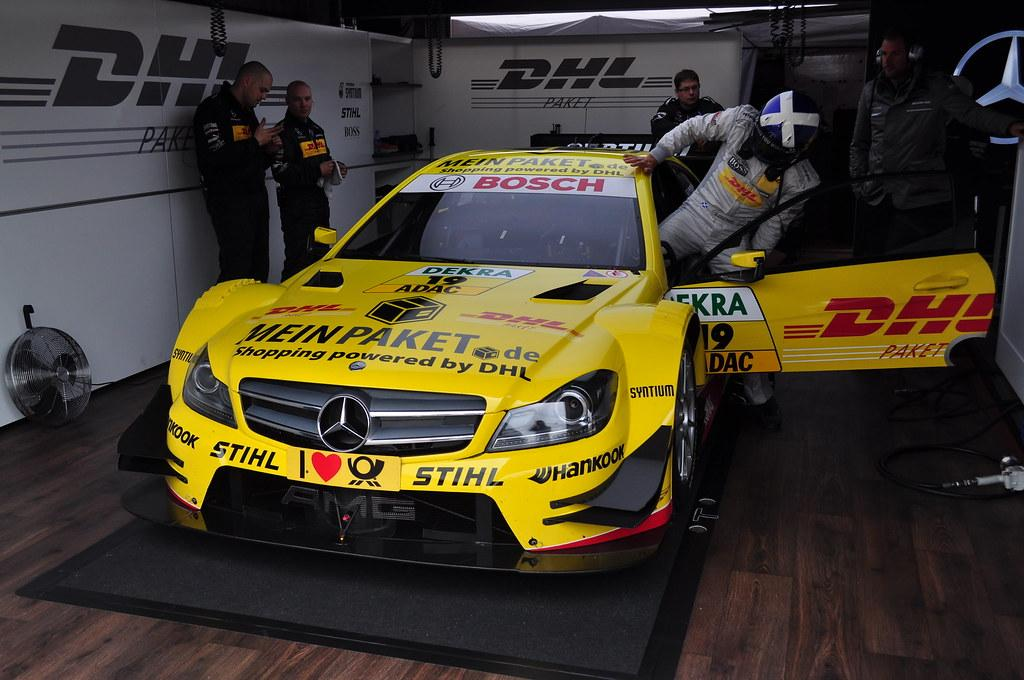car: (116, 146, 997, 578)
